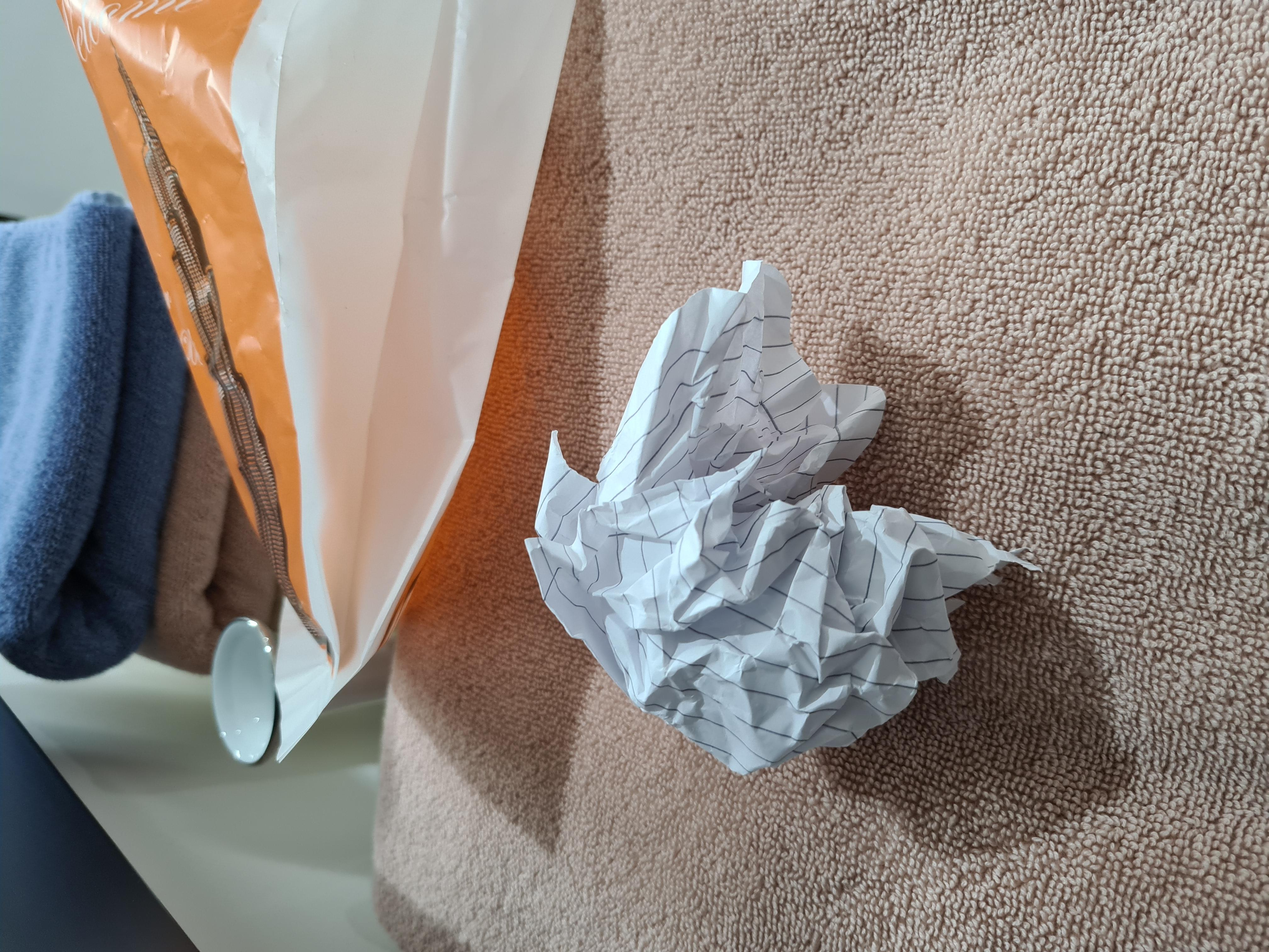paper: (232, 395, 907, 740)
